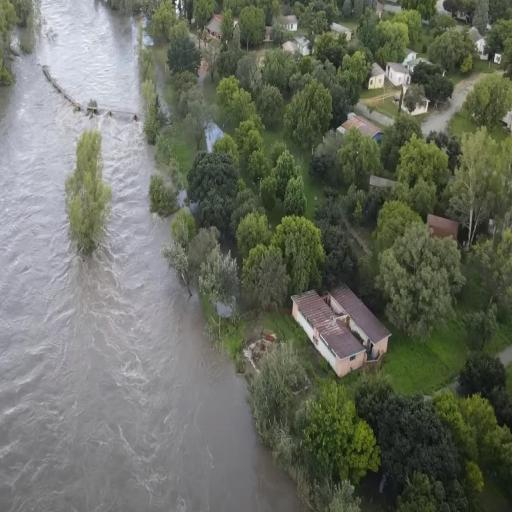flood: (0, 1, 303, 511), (422, 73, 484, 136), (139, 15, 176, 116), (199, 67, 225, 151)
house: (292, 284, 396, 382), (334, 114, 386, 162), (201, 10, 225, 54), (388, 56, 413, 92), (364, 58, 385, 94), (277, 10, 300, 35)
